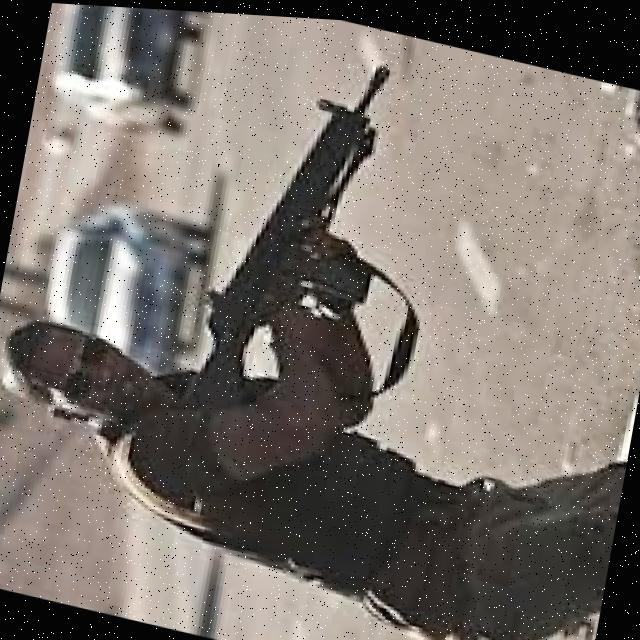firearm: (180, 27, 408, 445)
